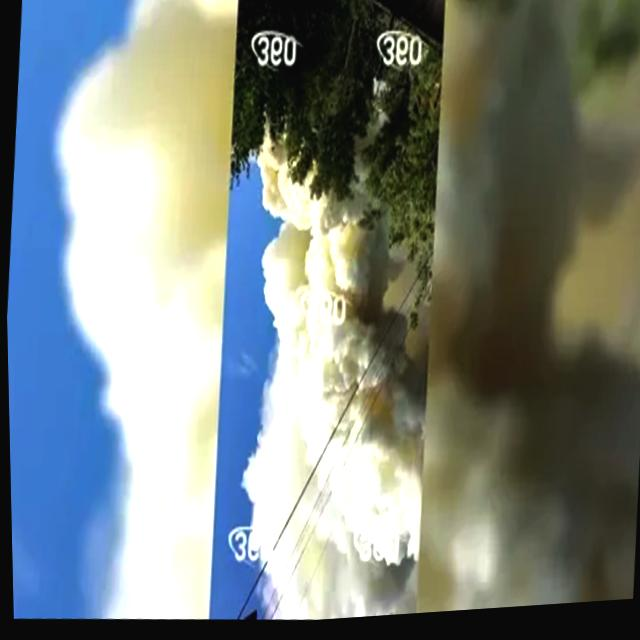no_helmet: (223, 134, 444, 628)
